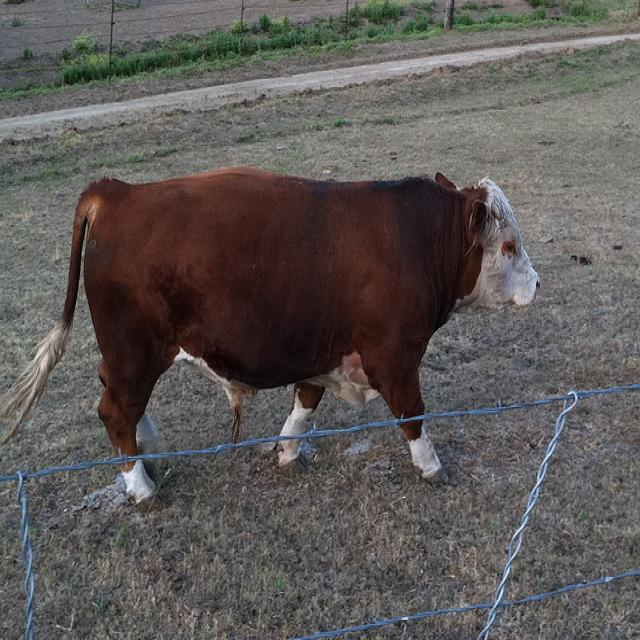cow: (1, 158, 548, 515)
